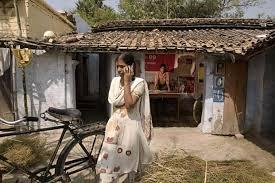Human: (99, 46, 143, 183), (155, 65, 170, 98)
